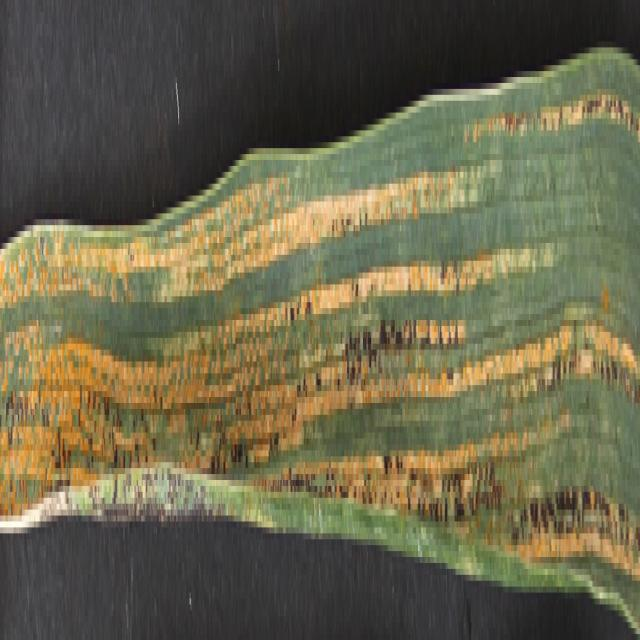leaf rust: (1, 59, 639, 551)
